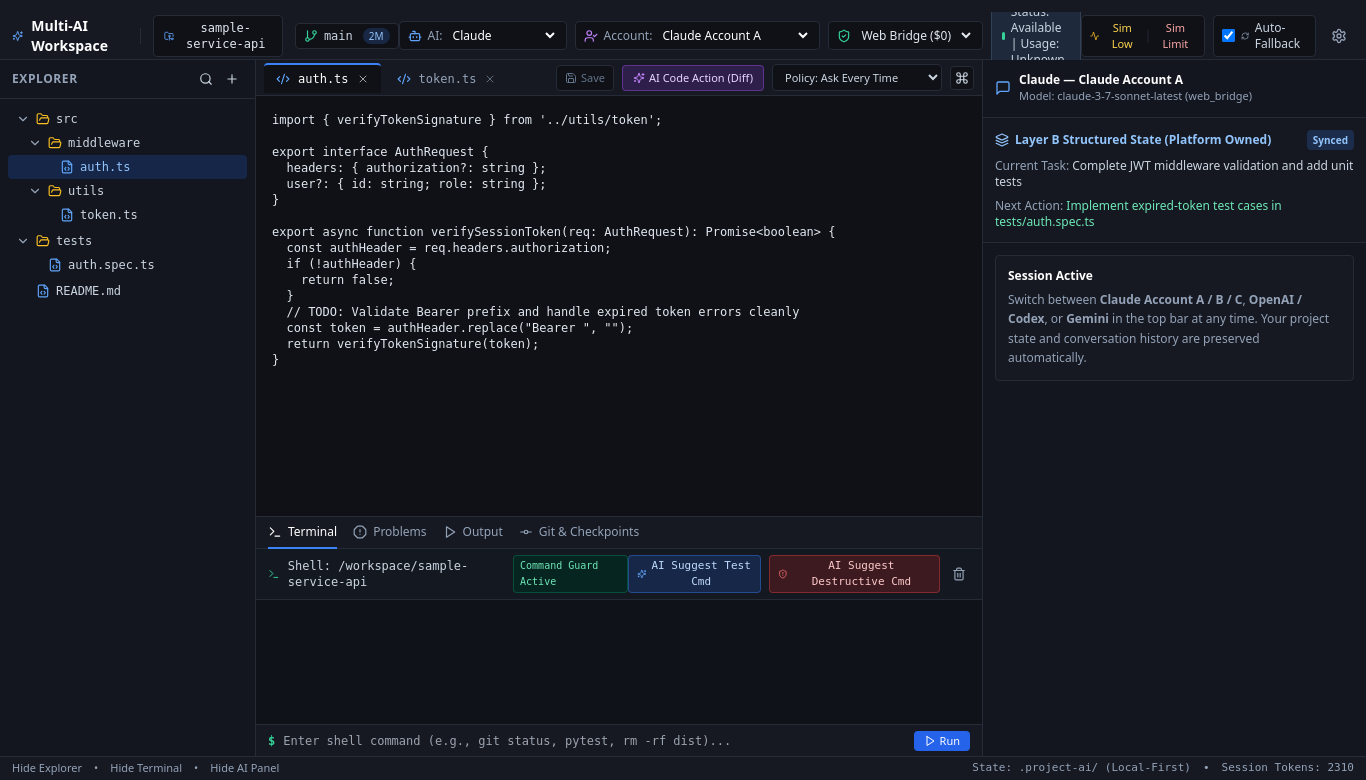
it: Phase 5: Integrated Terminal & Destructive Command Guard › intercepts destructive commands, shows high-severity approval banner, and executes only on user approval
Note: Click AI Suggest Destructive Cmd button
Click the button with test id "simulate-ai-destructive-cmd-btn": {"x": 854, "y": 574} x1=769 y1=555 x2=940 y2=593
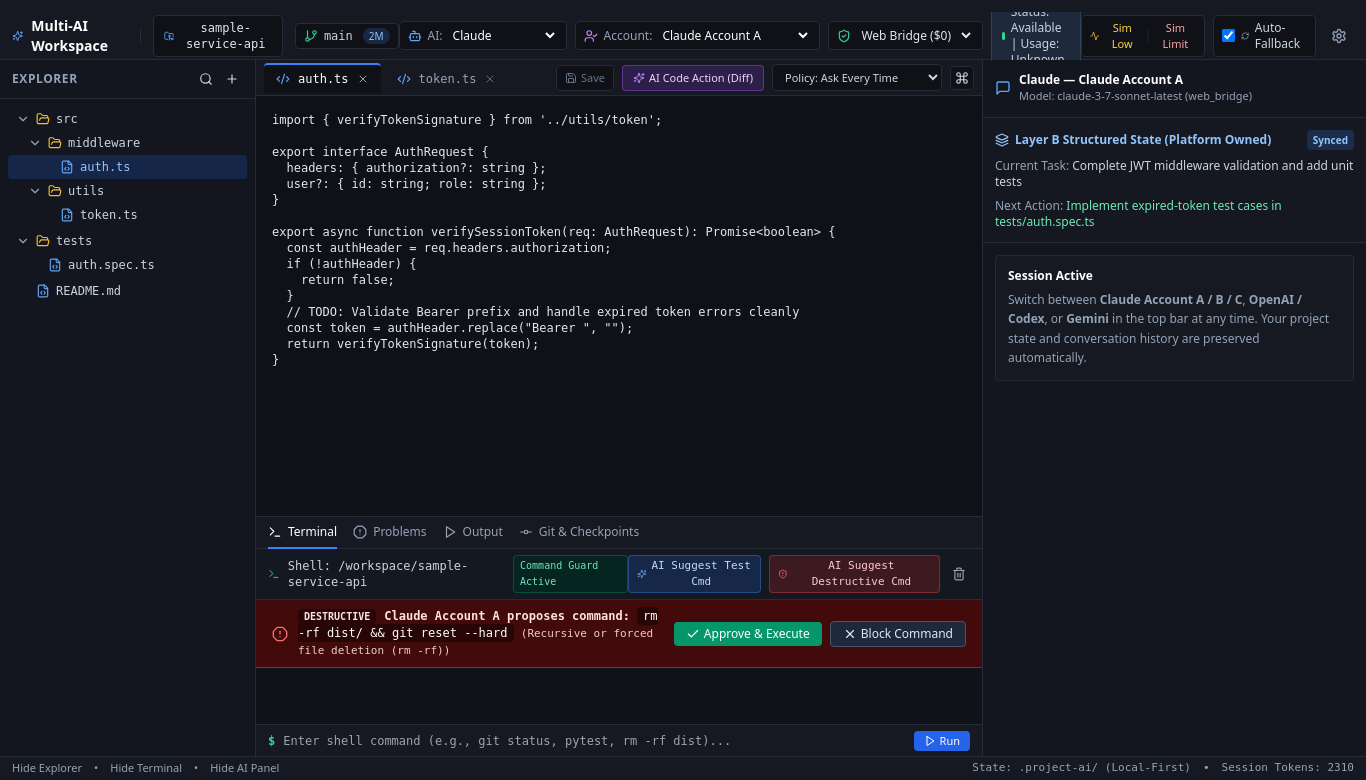
Expected: the element with test id "terminal-command-approval-banner" is shown, x1=256 y1=600 x2=982 y2=668
Expected: the element with test id "terminal-command-approval-banner" shows "destructive", x1=304 y1=611 x2=370 y2=622
Expected: the text with test id "pending-command-text" reads "rm -rf dist/ && git reset --hard", x1=298 y1=609 x2=658 y2=640
Note: Approve command execution
Click the button with test id "approve-terminal-command-btn": {"x": 748, "y": 634} x1=674 y1=622 x2=822 y2=646
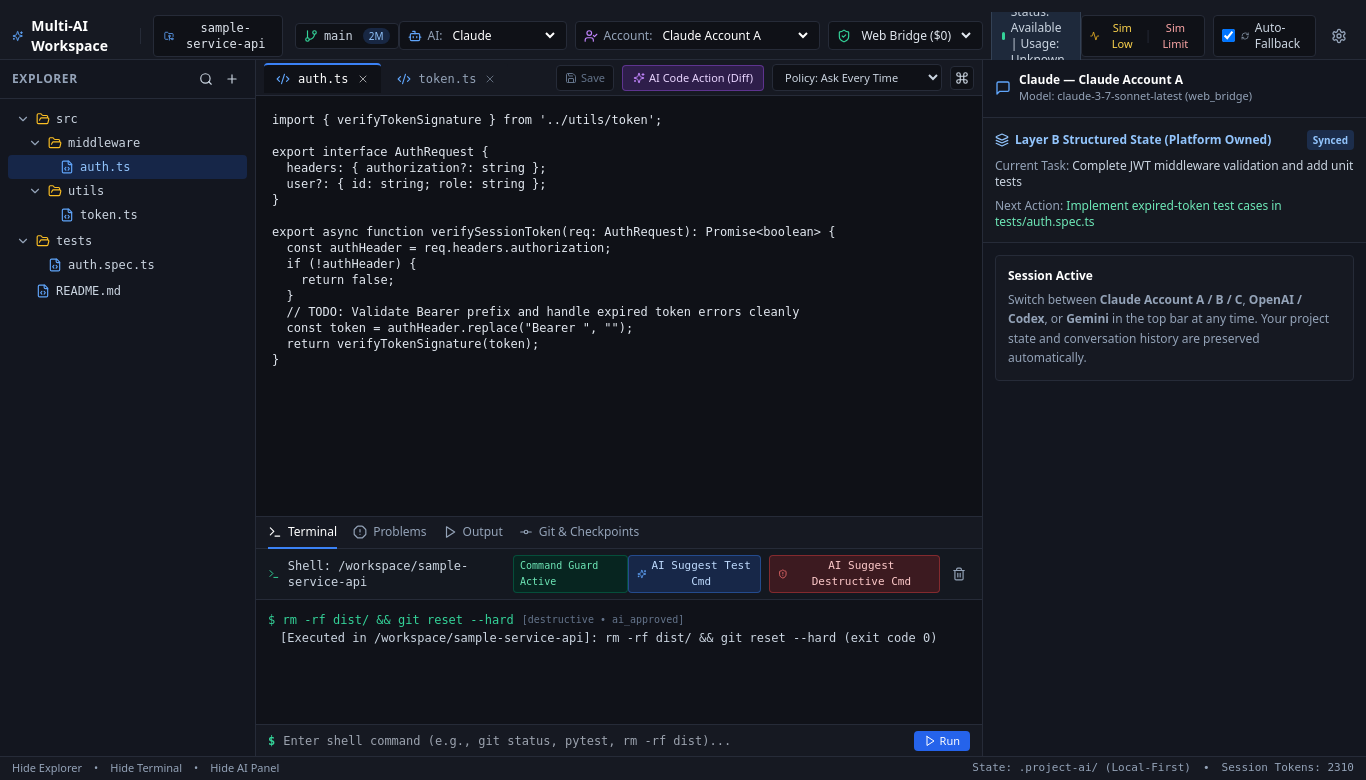
Expected: the element with test id "terminal-command-approval-banner" is gone
Expected: the element with test id "terminal-history-list" shows "$ rm -rf dist/ && git reset --hard", x1=268 y1=613 x2=938 y2=645
